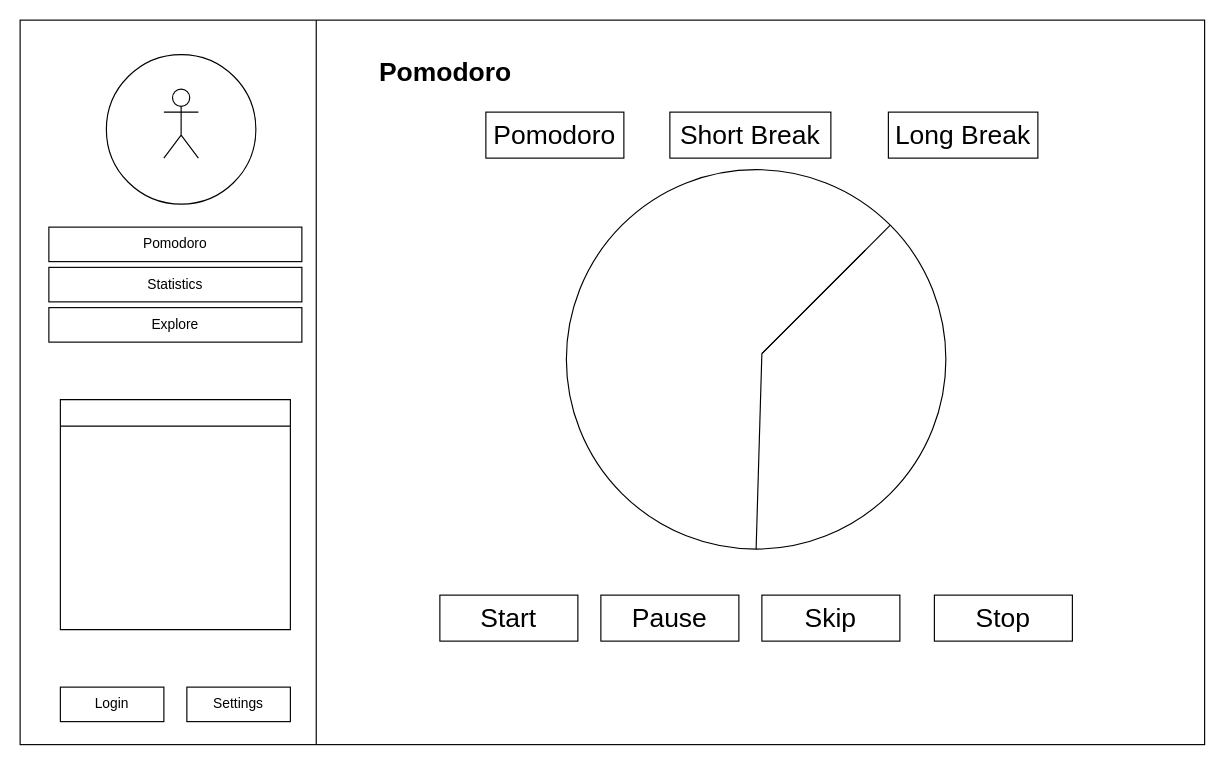
Image size: 1225x766. Some labels were removed from this diagram. The centre of each missing label's shape, as x and y in pixels:
Actor: pixel 180 123
Weekly Goals: pixel 174 514
